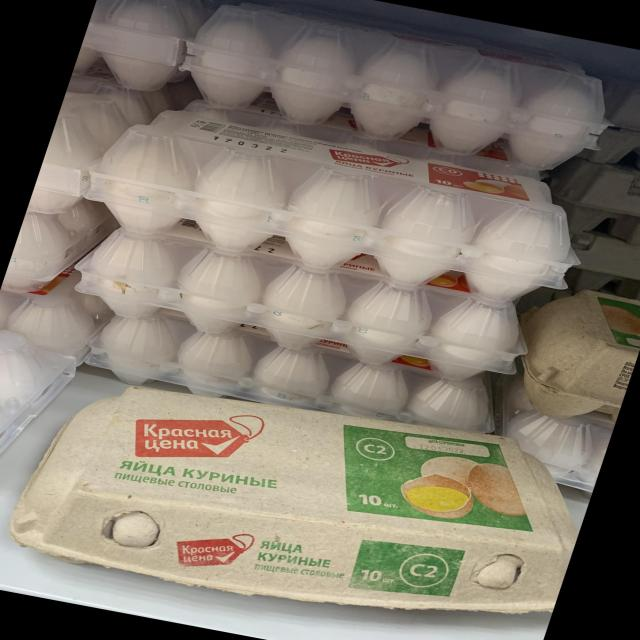organic waste: (0, 354, 604, 640), (72, 99, 595, 312), (496, 278, 640, 432), (0, 327, 82, 493), (554, 159, 640, 250), (576, 68, 639, 185), (563, 232, 640, 306)
